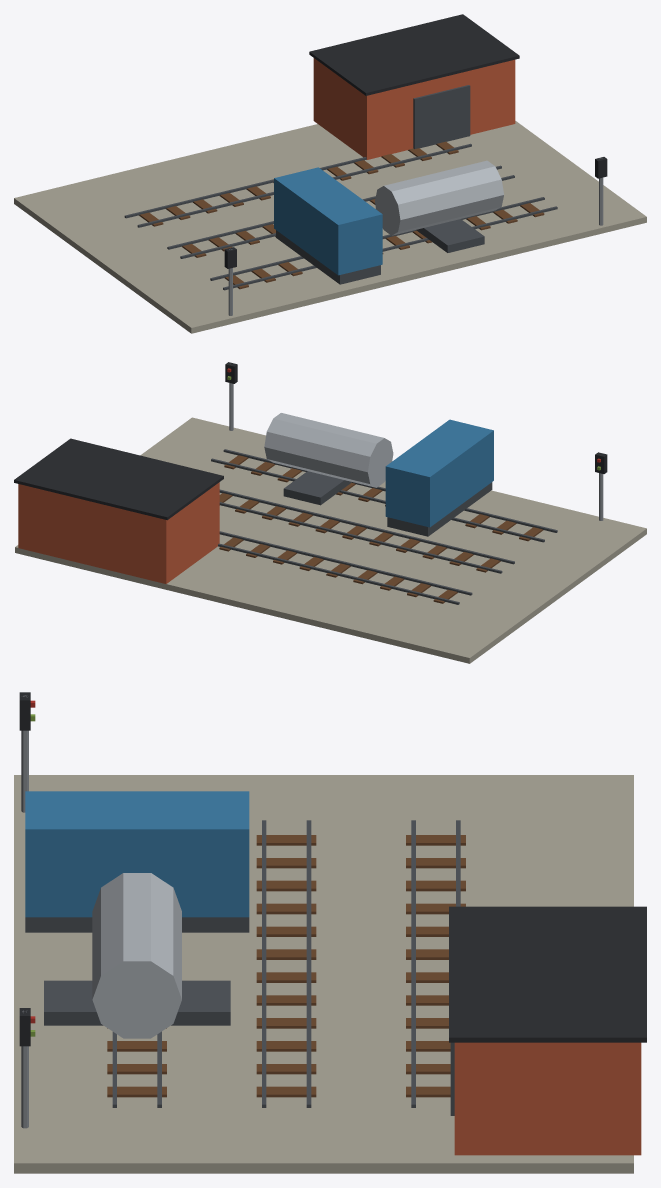
File: building.train-yard.glb
3 views of the same model, one above another, from view 1: azimuth 30°, elevation 25°; view 2: azimuth 150°, elevation 25°; view 3: azimuth 270°, elevation 25° (orthographic). The views are drawn at different scales.
Parts seen in each view (by area): view 1: building.train-yard; view 2: building.train-yard; view 3: building.train-yard.
Part boxes in pixels (x1=…): building.train-yard: x1=14, y1=14, x2=646, y2=333; building.train-yard: x1=14, y1=362, x2=646, y2=663; building.train-yard: x1=14, y1=692, x2=646, y2=1173.
Bounding box in the file's own units: 24.6 × 3.95 × 16.95.
